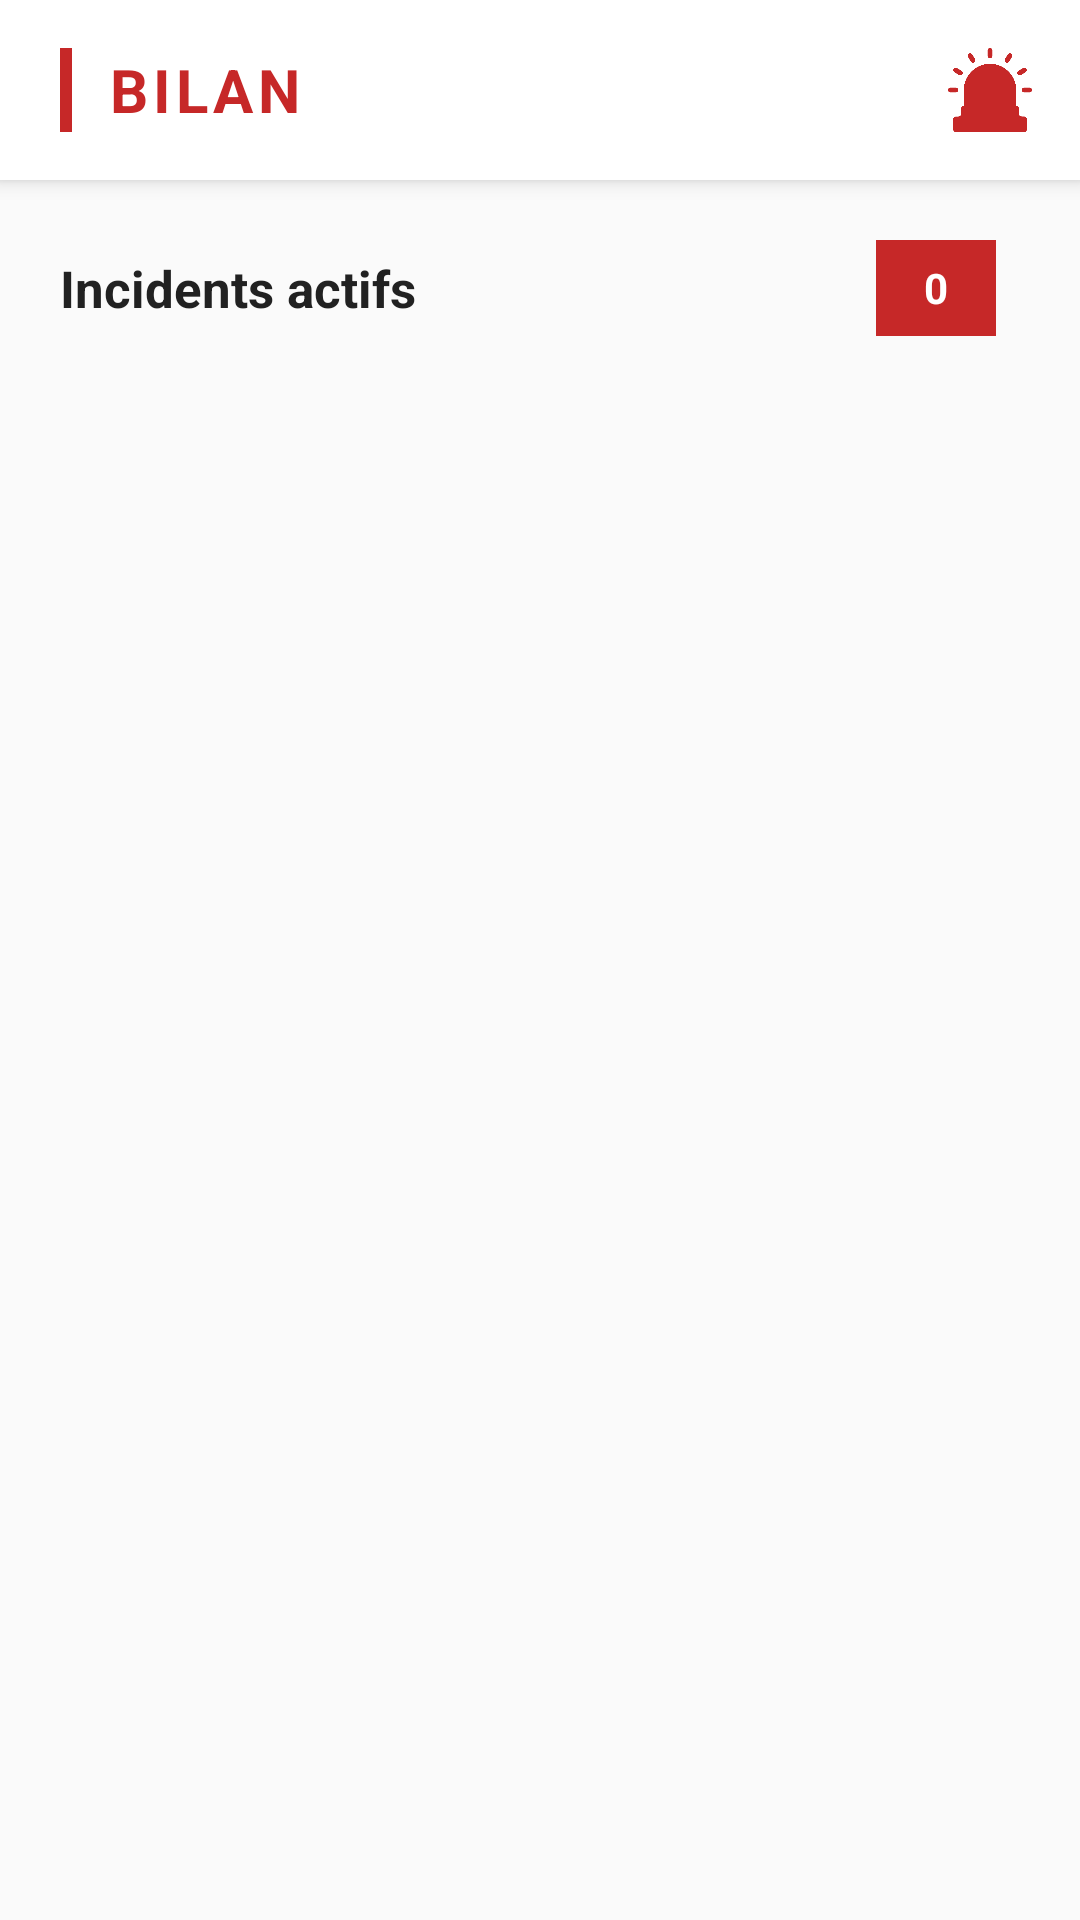

Named icons in this screenshot (1080 x 1920) and their bounding boxes, (x1, y1, x2, y2):
emergency: (948, 48, 1032, 132)
